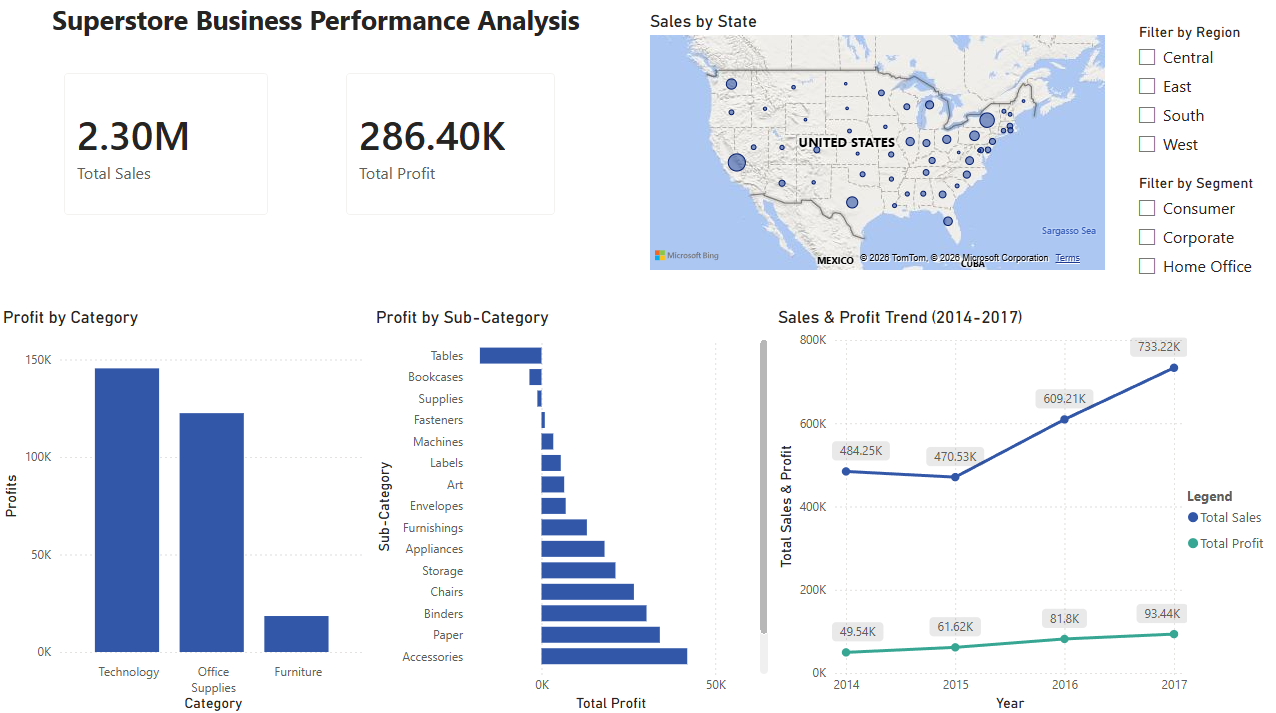

This screenshot's page, from the dashboard's own definition file:
{"tool":"powerbi","page":{"name":"Superstore Dashboard","canvas":[1280,720],"ordinal":0},"visuals":[{"type":"cardVisual","fields":{"Data":["Sum(superstore_sales superstore_clean.sales)"]},"box":[49.3,60,237.3,175.5],"z":0},{"type":"cardVisual","fields":{"Data":["Sum(superstore_sales superstore_clean.profit)"]},"box":[331.3,60,242.7,175.5],"z":1000},{"type":"clusteredColumnChart","title":"Profit by Category","fields":{"Category":["superstore_sales superstore_clean.category"],"Y":["Sum(superstore_sales superstore_clean.profit)"]},"box":[0,310.7,372.5,409.3],"z":2000},{"type":"map","title":"Sales by State","fields":{"Category":["superstore_sales superstore_clean.state"],"Size":["Sum(superstore_sales superstore_clean.sales)"]},"box":[647.5,15.2,464.8,264.2],"z":4000},{"type":"lineChart","title":"Sales & Profit Trend (2014-2017)","fields":{"Y":["Sum(superstore_sales superstore_clean.sales)","Sum(superstore_sales superstore_clean.profit)"],"Category":["superstore_sales superstore_clean.order_date.Variation.Date Hierarchy.Year"]},"box":[774.6,310.7,505.1,409.3],"z":4001},{"type":"slicer","title":"Filter by Region","fields":{"Values":["superstore_sales superstore_clean.region"]},"box":[1128.4,23.3,150.4,150.4],"z":4002},{"type":"slicer","fields":{"Values":["superstore_sales superstore_clean.segment"]},"box":[1128.4,173.7,149.6,116.4],"z":4003},{"type":"textbox","box":[49.3,0,583.9,45.7],"z":4004},{"type":"clusteredBarChart","title":"Profit by Sub-Category","fields":{"Category":["superstore_sales superstore_clean.sub_category"],"Y":["Sum(superstore_sales superstore_clean.profit)"]},"box":[372.5,310.7,402.1,409.3],"z":4005}]}

Visuals, with their boxes in screenshot pixels (x1, y1, x2, y2), scaled from the page's 1280x720 canvas onto the 1276x713 screenshot:
cardVisual - Sum(superstore_sales superstore_clean.sales): detection(49, 59, 286, 233)
cardVisual - Sum(superstore_sales superstore_clean.profit): detection(330, 59, 572, 233)
"Profit by Category" clusteredColumnChart: detection(0, 308, 371, 712)
"Sales by State" map: detection(645, 15, 1109, 277)
"Sales & Profit Trend (2014-2017)" lineChart: detection(772, 308, 1275, 712)
"Filter by Region" slicer: detection(1125, 23, 1275, 172)
slicer - superstore_sales superstore_clean.segment: detection(1125, 172, 1274, 287)
textbox: detection(49, 0, 631, 45)
"Profit by Sub-Category" clusteredBarChart: detection(371, 308, 772, 712)
